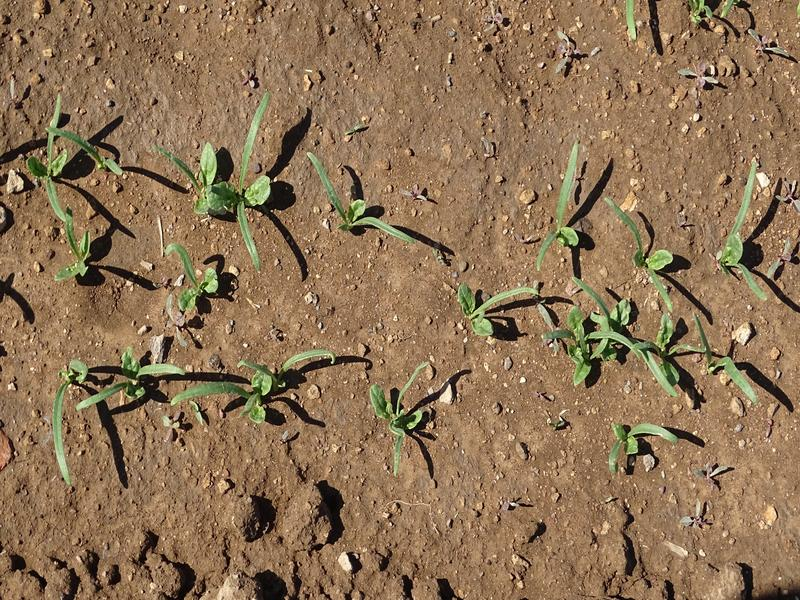Espinaca: (50, 332, 347, 431), (548, 296, 757, 402), (38, 97, 128, 287), (183, 96, 281, 260), (307, 154, 414, 249), (610, 198, 678, 298), (450, 275, 533, 352), (721, 164, 763, 297), (366, 361, 433, 444), (538, 146, 581, 273), (595, 417, 685, 469), (165, 246, 229, 314)
